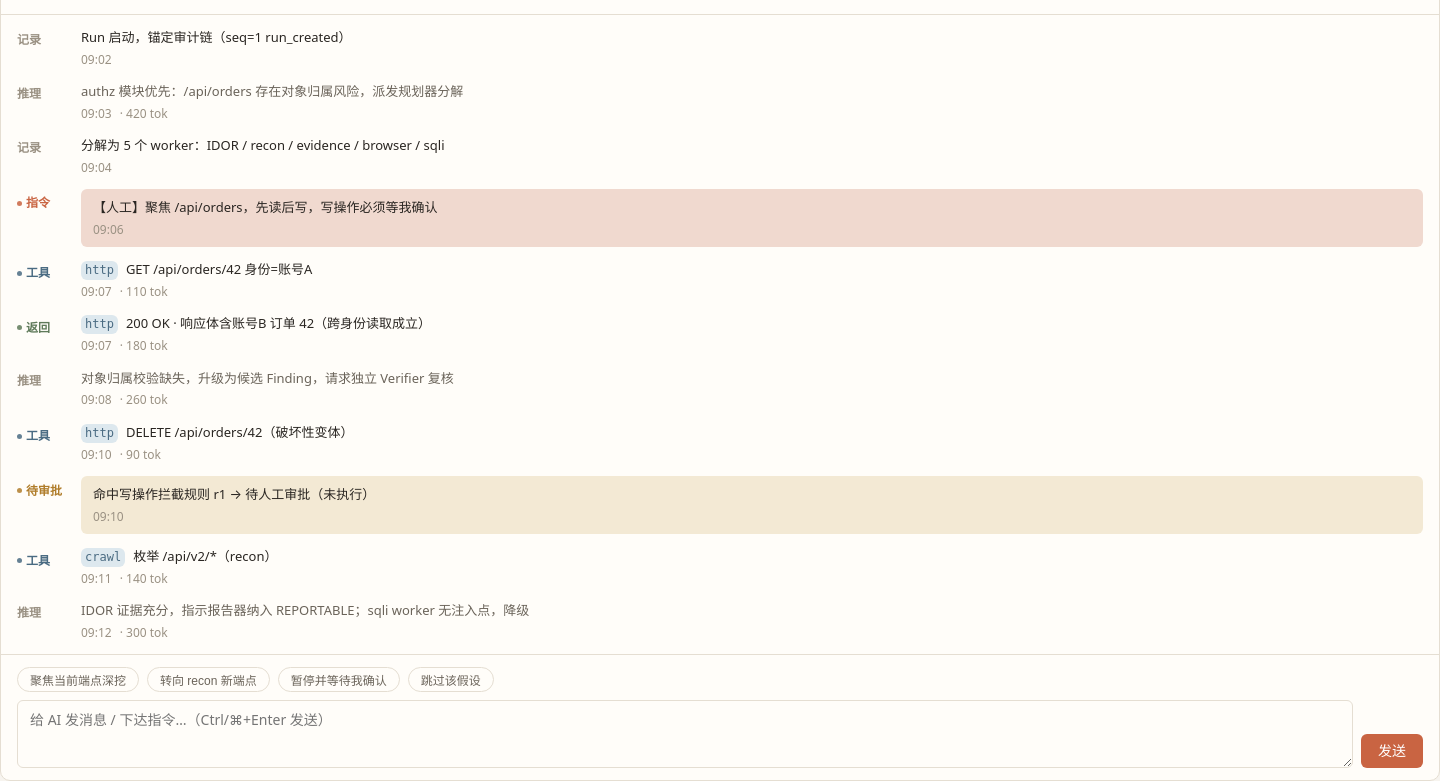
OrchestrationChat（编排对话 + 人工转向） › 渲染分型转录，下发转向指令触发回调并清空
(page scrolled)
Expected: the text "待审批" is shown, 17,482 -> 62,500
Type "聚焦 /api/orders" into the text box named "与 AI 对话输入".
click(685, 734); type("聚焦 /api/orders")  # box 17,700 -> 1353,768
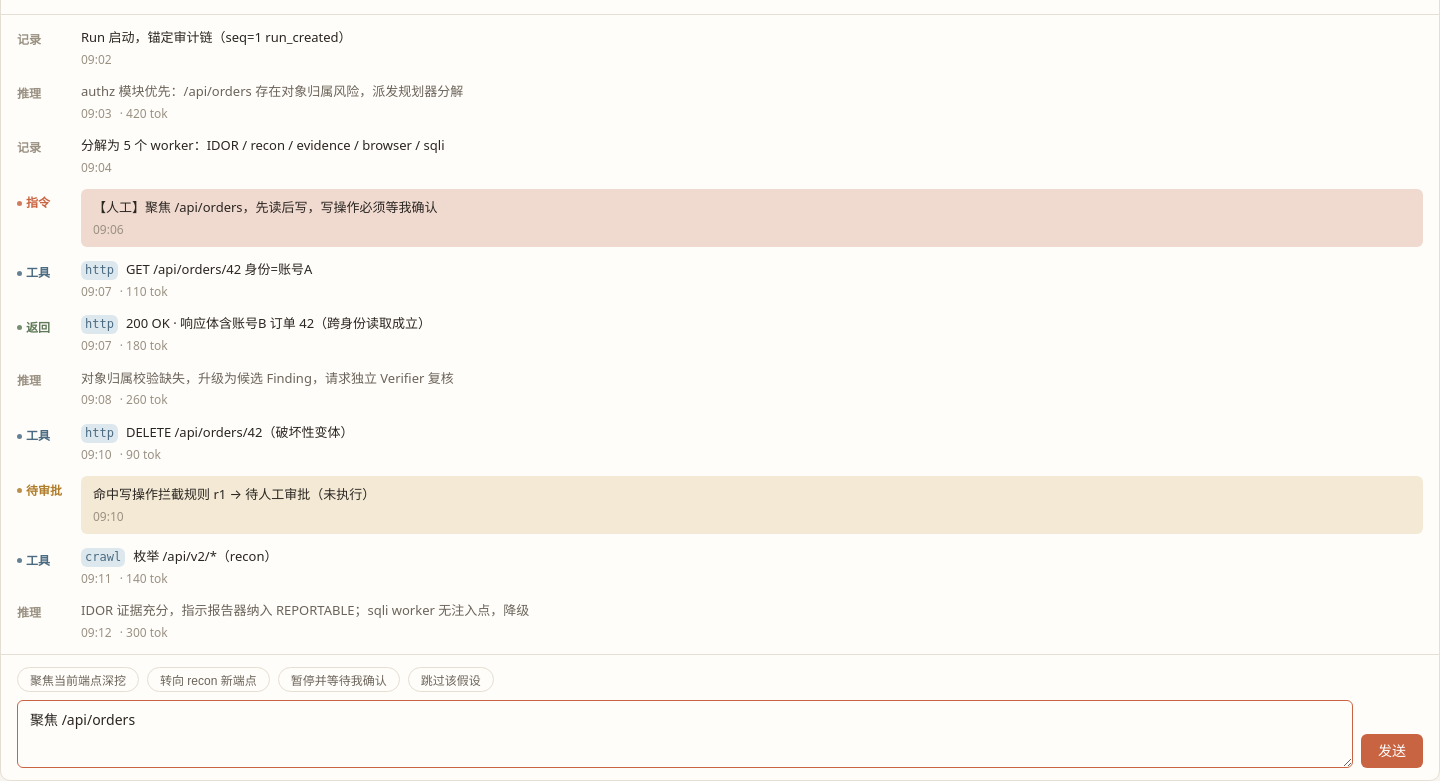
Click the button "发送".
click(1392, 751)  # box 1361,734 -> 1423,768
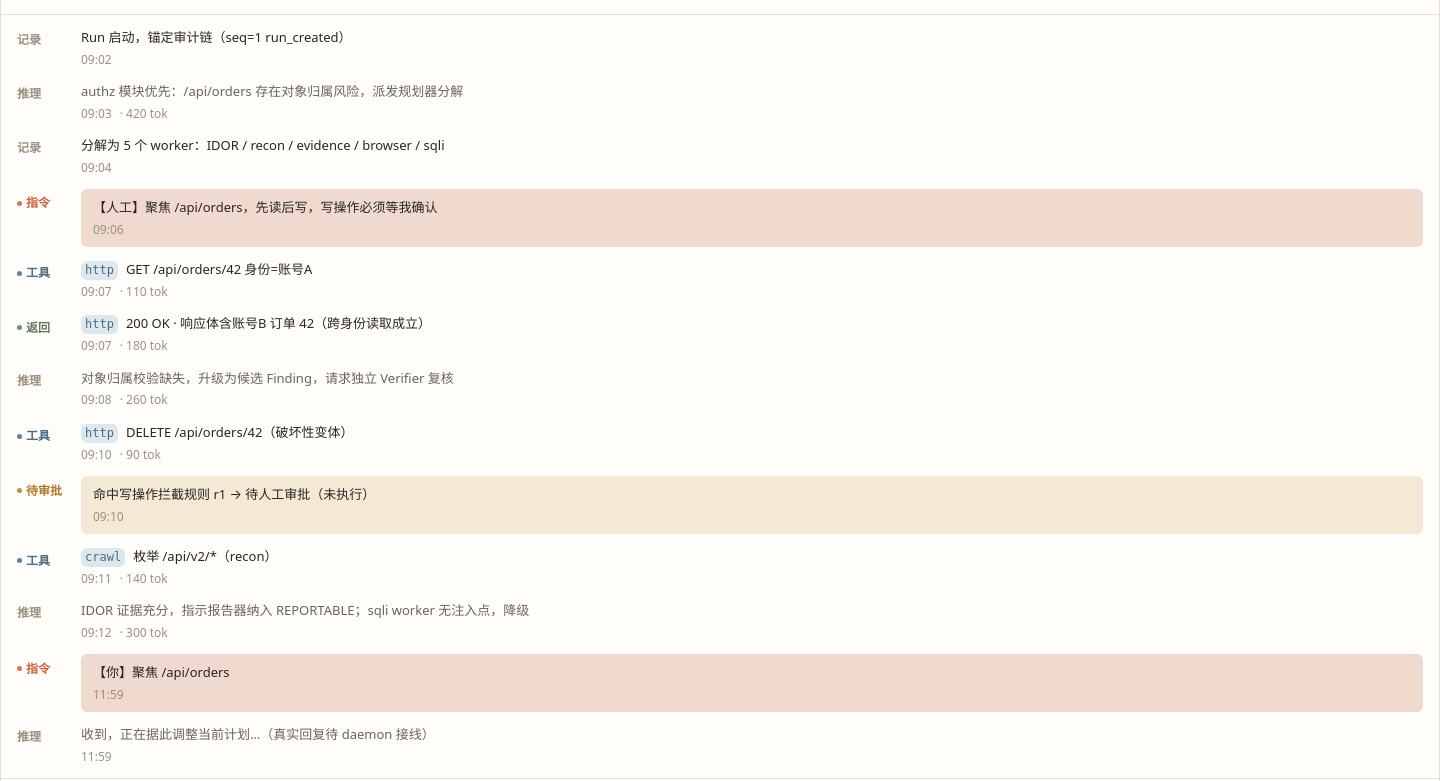
Expected: the text "【你】聚焦 /api/orders" is shown, 93,662 -> 230,683
